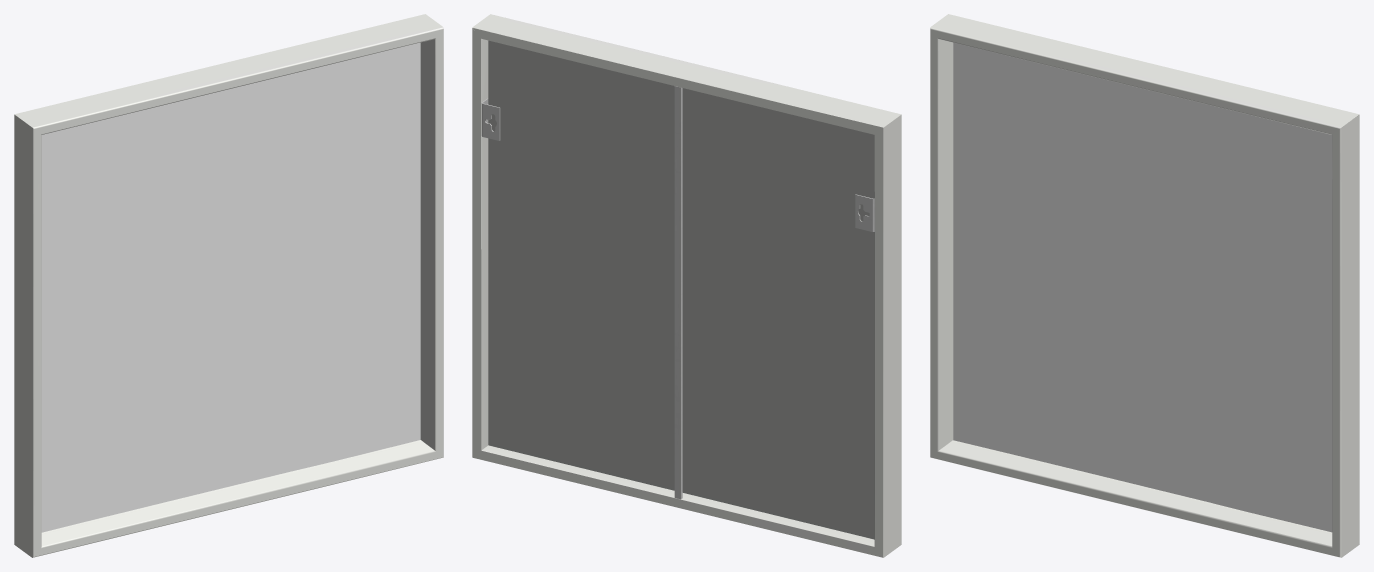
File: nissedal_lustro_20320312.glb
The picture shows the model from 3 angles, left to right: view 1: azimuth 30°, elevation 25°; view 2: azimuth 150°, elevation 25°; view 3: azimuth 330°, elevation 25°; orthographic projection.
Visible parts, largest first — view 1: nissedal_lustro_20320312; view 2: nissedal_lustro_20320312; view 3: nissedal_lustro_20320312.
Part boxes in pixels (x1,y1,x2,y2): nissedal_lustro_20320312: (14,14,443,557); nissedal_lustro_20320312: (472,14,901,557); nissedal_lustro_20320312: (930,14,1359,557).
Bounding box in the file's own units: 0.6501 × 0.6501 × 0.0531.
Materials: 1 (1 with a texture image).
